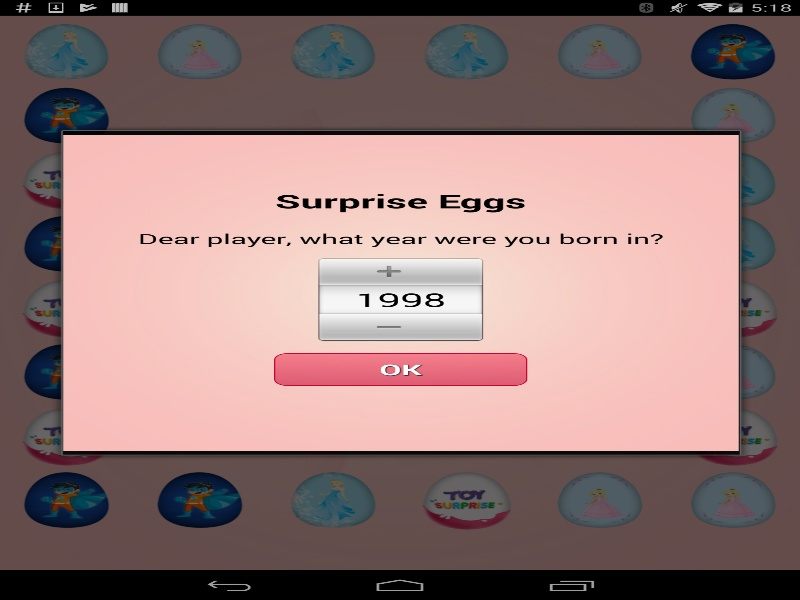Button: (274, 353, 527, 385), (314, 257, 487, 284), (314, 314, 487, 341)
Input: (314, 284, 487, 314)
